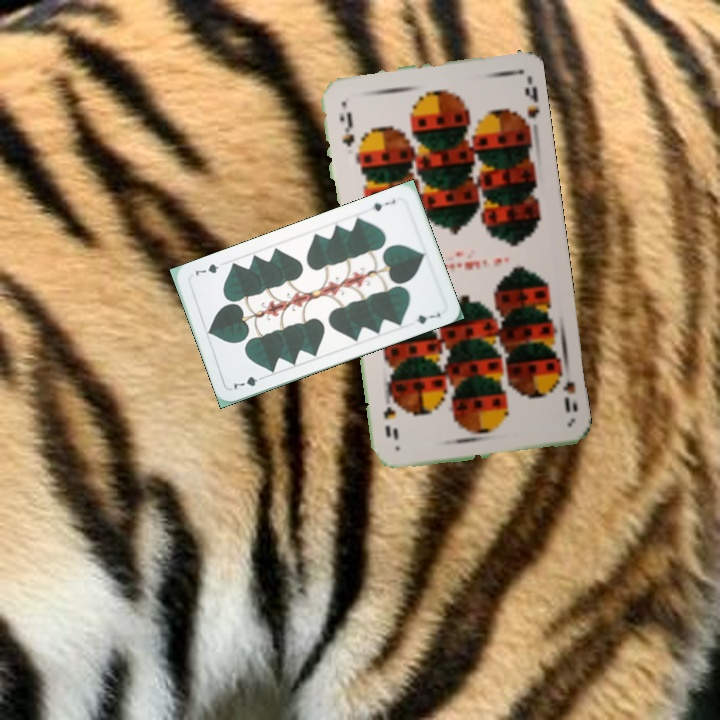G7: (229, 372, 268, 392), (364, 195, 398, 214)
S9: (549, 362, 578, 415), (335, 107, 357, 150)
